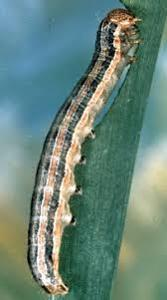fallarmy_worm: (25, 7, 151, 299)
